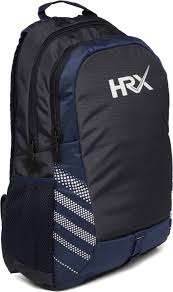backpack: (0, 0, 172, 290)
